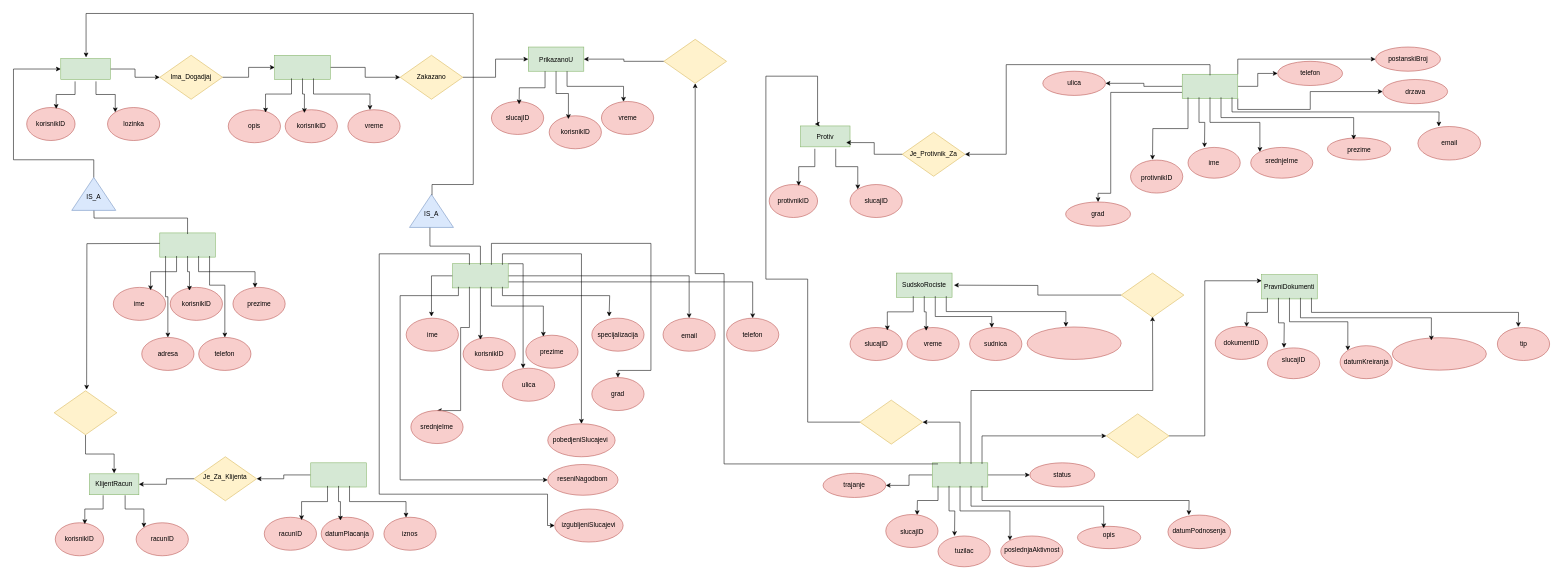
Some shapes in this 1559 by 576 pixel diagram are drawn without their labels. The centre of each missing label's shape, as x and y in pixels:
Advokat: the point at 480,275
datumPoslednjeIzmene: the point at 1439,353
datumSledecegRocista: the point at 1074,342
Ima_Dokument: the point at 1137,435
Ima_Rociste: the point at 1152,295
Kalendar: the point at 302,67
Klijent: the point at 187,244
Korisnik: the point at 85,68
Placa: the point at 85,412
Planirano_Za: the point at 695,61
PravniSlucaj: the point at 960,474
Protiv_Koga_Je: the point at 891,422
Protivnik: the point at 1210,86
Racun: the point at 338,474
